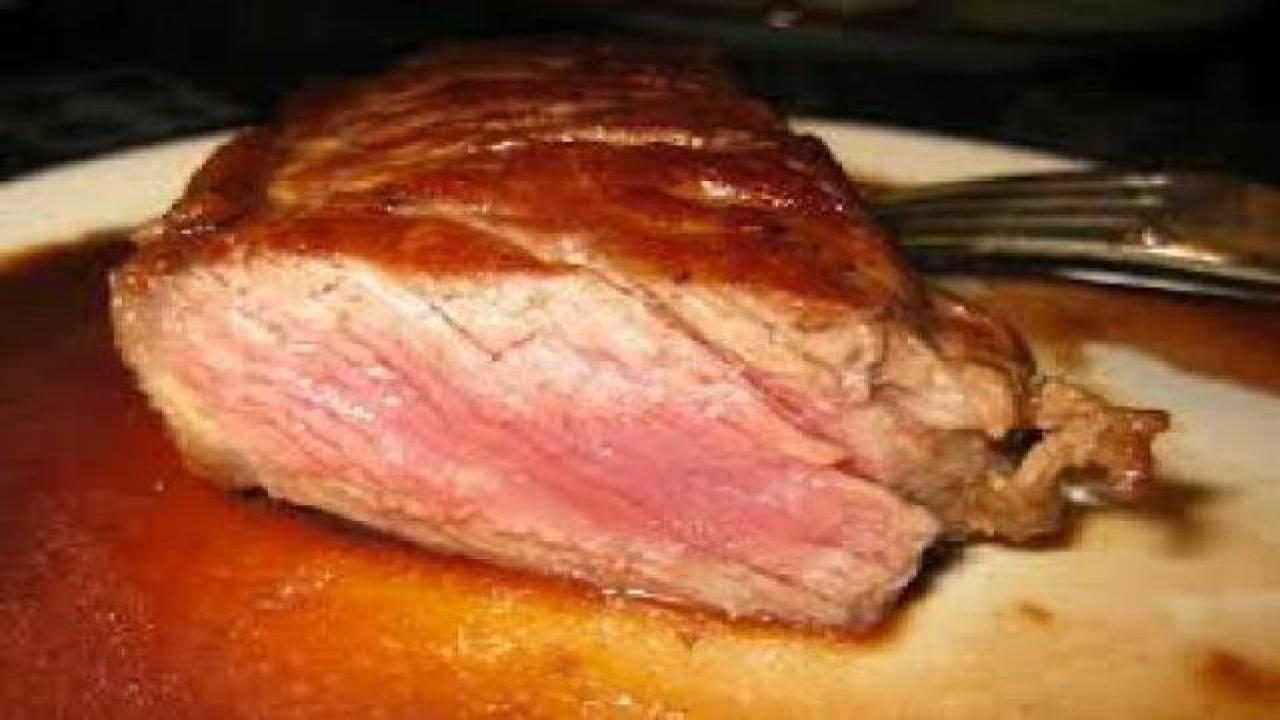raw: (137, 238, 1040, 622)
